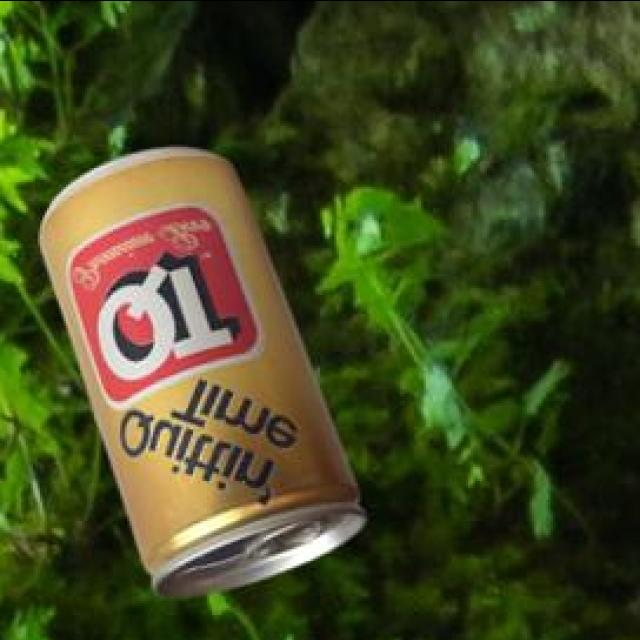logam: (36, 142, 364, 592)
